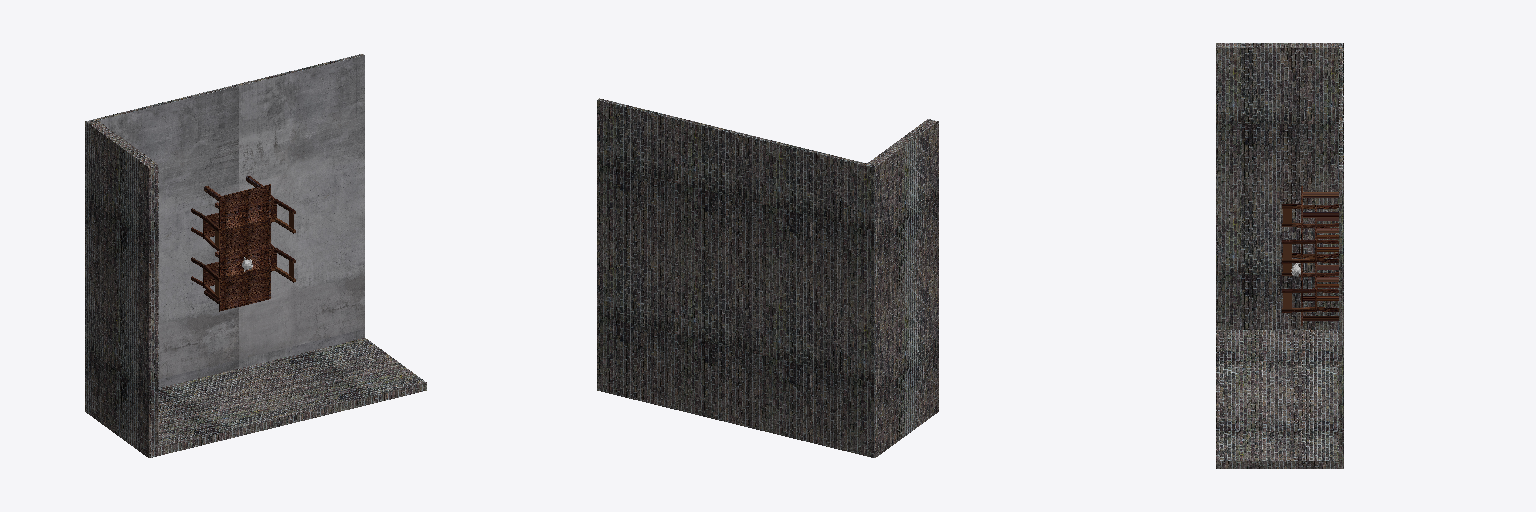
The picture shows the model from 3 angles: view 1: azimuth 30°, elevation 25°; view 2: azimuth 150°, elevation 25°; view 3: azimuth 270°, elevation 25°; orthographic projection.
Visible parts, largest first — view 1: Cube.005_Cube.006, Cube, Cube.003, Cube.004; view 2: Cube.005_Cube.006; view 3: Cube.005_Cube.006, Cube, Cube.001, Cube.002, Cube.003, Cube.004.
Boxes of the visible parts, x1,y1,x2,y2 form: Cube.005_Cube.006: [85, 54, 426, 457]; Cube: [204, 176, 270, 311]; Cube.003: [191, 202, 221, 251]; Cube.004: [191, 251, 221, 300]; Cube.005_Cube.006: [597, 98, 938, 457]; Cube.005_Cube.006: [1216, 43, 1343, 468]; Cube: [1301, 186, 1338, 325]; Cube.001: [1282, 277, 1338, 312]; Cube.002: [1282, 228, 1338, 263]; Cube.003: [1282, 204, 1338, 238]; Cube.004: [1282, 253, 1338, 287].
Bounding box in the file's own units: 26.46 × 26.46 × 10.48.
Materials: 4 (3 with a texture image).